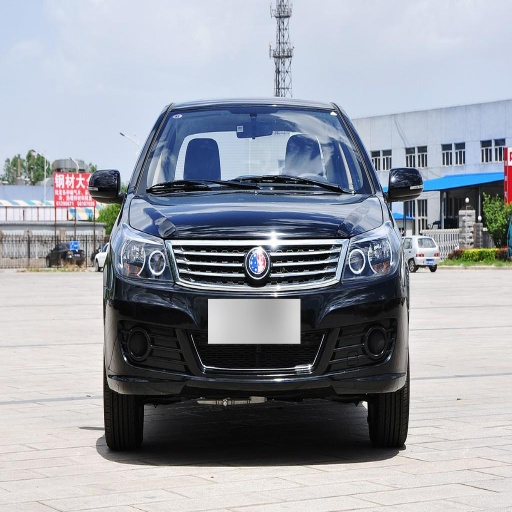front_bumper: (109, 224, 407, 397)
front_right_light: (116, 231, 166, 279)
hood: (126, 187, 385, 237)
